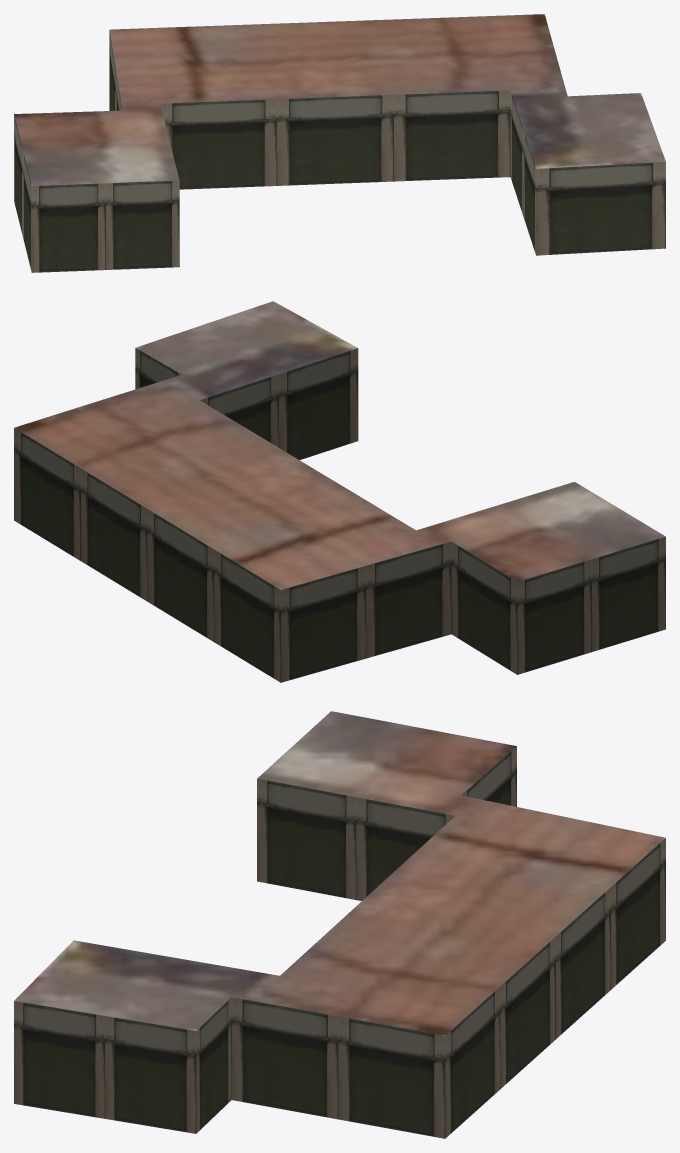
The model's file is T_1T0CW4NUTT.dae.
The picture shows the model from 3 angles, top to bottom: view 1: azimuth 30°, elevation 25°; view 2: azimuth 150°, elevation 25°; view 3: azimuth 270°, elevation 25°; orthographic projection. The views are drawn at different scales.
Parts seen in each view (by area): view 1: SketchUp (×7); view 2: SketchUp (×7); view 3: SketchUp (×7).
Boxes of the visible parts, left/top/right/bottom form: SketchUp (×7): left=14, top=14, right=665, bottom=272; SketchUp (×7): left=14, top=301, right=665, bottom=682; SketchUp (×7): left=14, top=711, right=665, bottom=1138.
Size of the model in its own units: 27.28 by 23.14 by 4.03.
2 materials, 2 textured.
